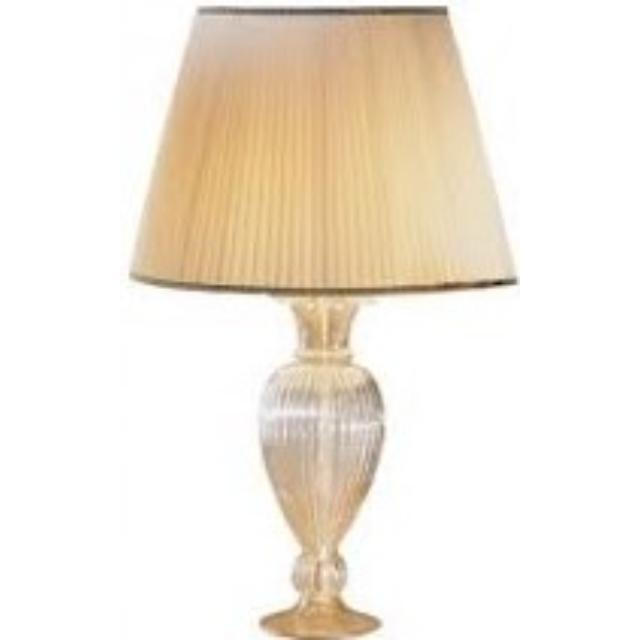lamp: (129, 3, 517, 640)
